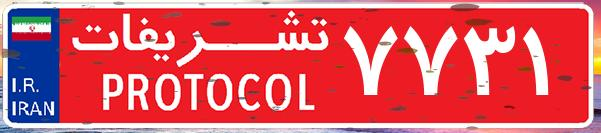1: (520, 20, 580, 115)
3: (460, 20, 520, 115)
7: (340, 20, 400, 115), (400, 20, 460, 115)
تشریفات: (60, 8, 340, 125)
